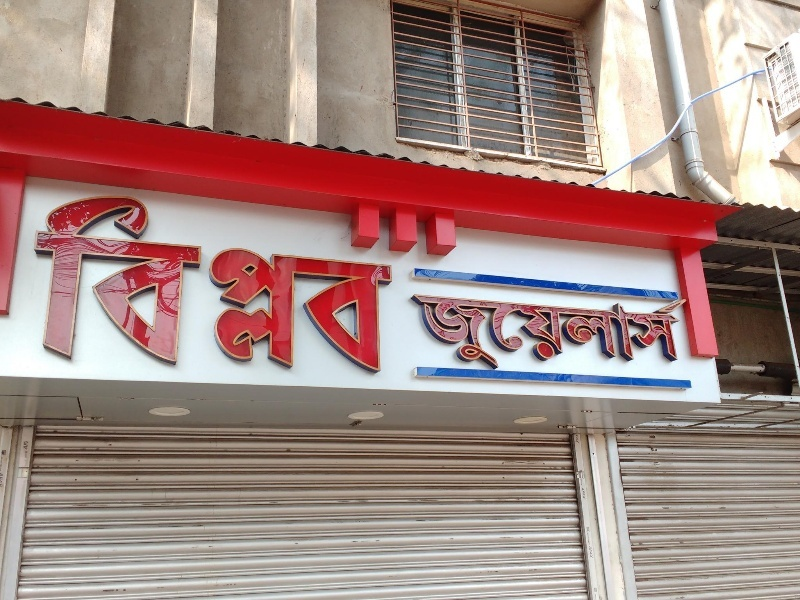text: (49, 182, 64, 377), (65, 182, 80, 377), (81, 182, 96, 377), (97, 182, 112, 377), (113, 182, 128, 377), (129, 182, 144, 377), (145, 182, 160, 377), (161, 182, 176, 377), (177, 182, 192, 377), (193, 182, 208, 377), (209, 182, 224, 377), (225, 182, 240, 377), (241, 182, 256, 377), (257, 182, 272, 377), (273, 182, 288, 377), (289, 182, 304, 377), (305, 182, 320, 377), (321, 182, 336, 377), (337, 182, 352, 377), (353, 182, 368, 377), (369, 182, 384, 377), (38, 182, 48, 377), (385, 182, 395, 377), (417, 284, 432, 377), (433, 284, 448, 377), (449, 284, 464, 377), (465, 284, 480, 377), (481, 284, 496, 377), (497, 284, 512, 377), (513, 284, 528, 377), (529, 284, 544, 377), (545, 284, 560, 377), (561, 284, 576, 377), (577, 284, 592, 377), (593, 284, 608, 377), (609, 284, 624, 377), (625, 284, 640, 377), (641, 284, 656, 377), (657, 284, 672, 377), (673, 284, 688, 377), (408, 284, 416, 377)
